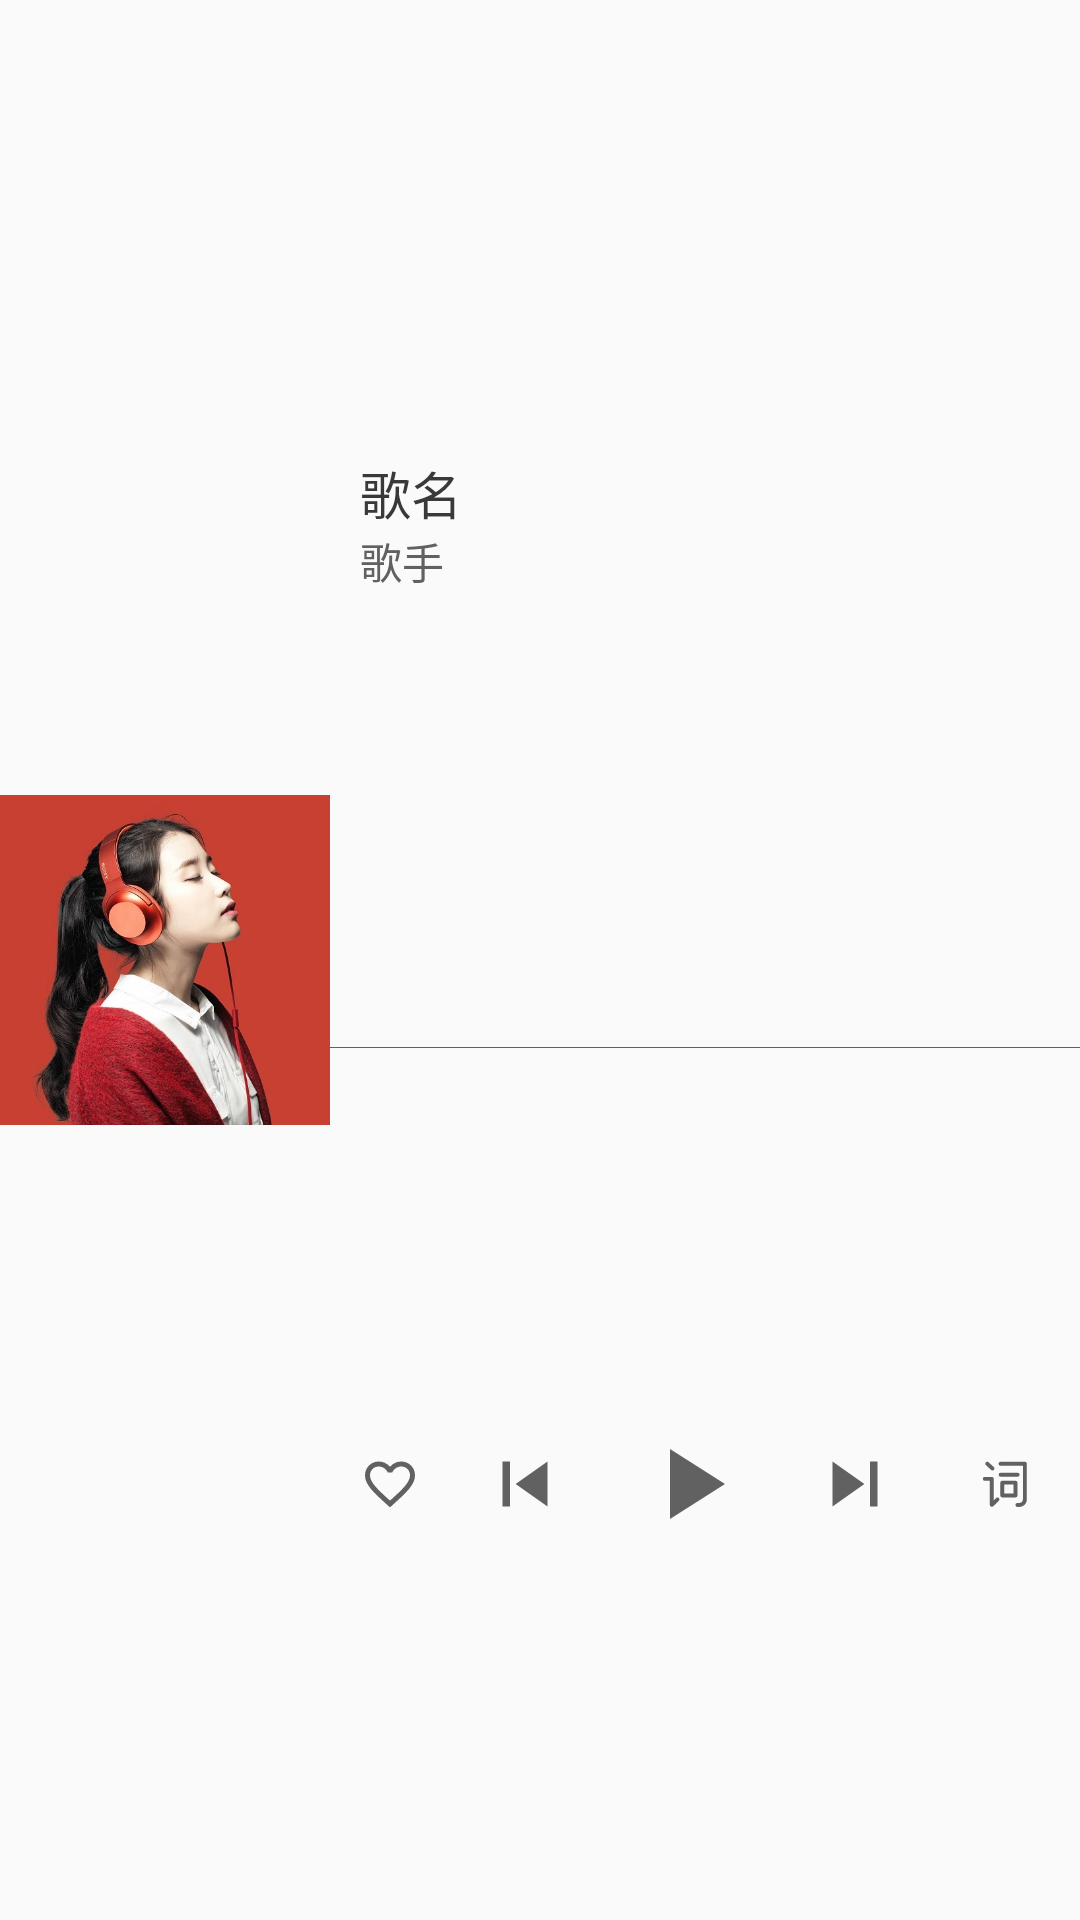

Named icons in this screenshot (1080w x 1920h) and their bounding boxes, bbox=(x1, y1, x2, y2):
favorite no: bbox=(365, 1461, 415, 1507)
next: bbox=(832, 1461, 878, 1507)
play: bbox=(670, 1449, 725, 1519)
previous: bbox=(502, 1461, 548, 1507)
